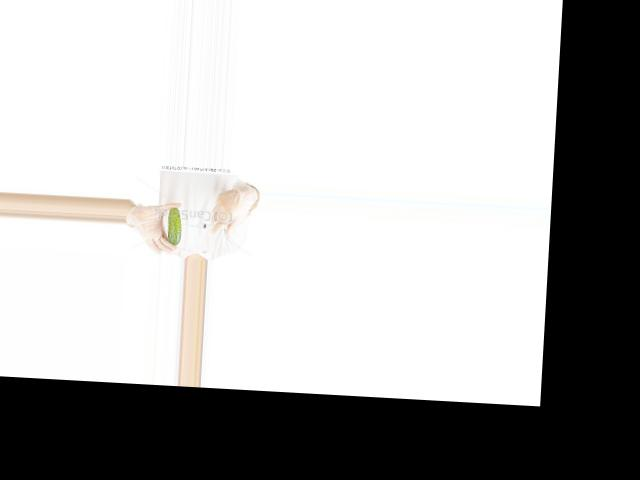cucumber: (165, 205, 181, 245)
